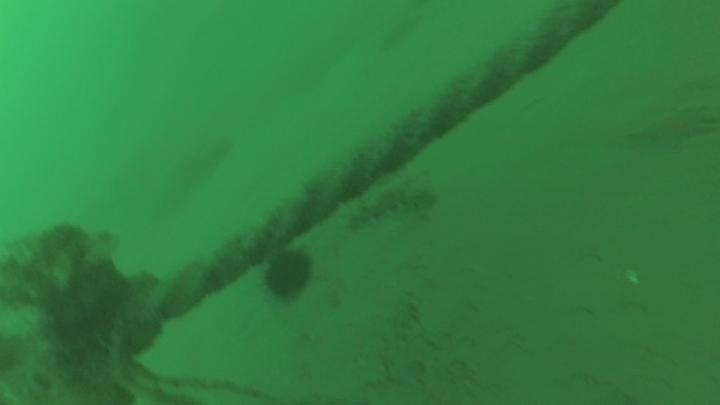echinus: (261, 247, 316, 304)
holothurian: (337, 179, 439, 232)
starfish: (626, 100, 717, 154)
